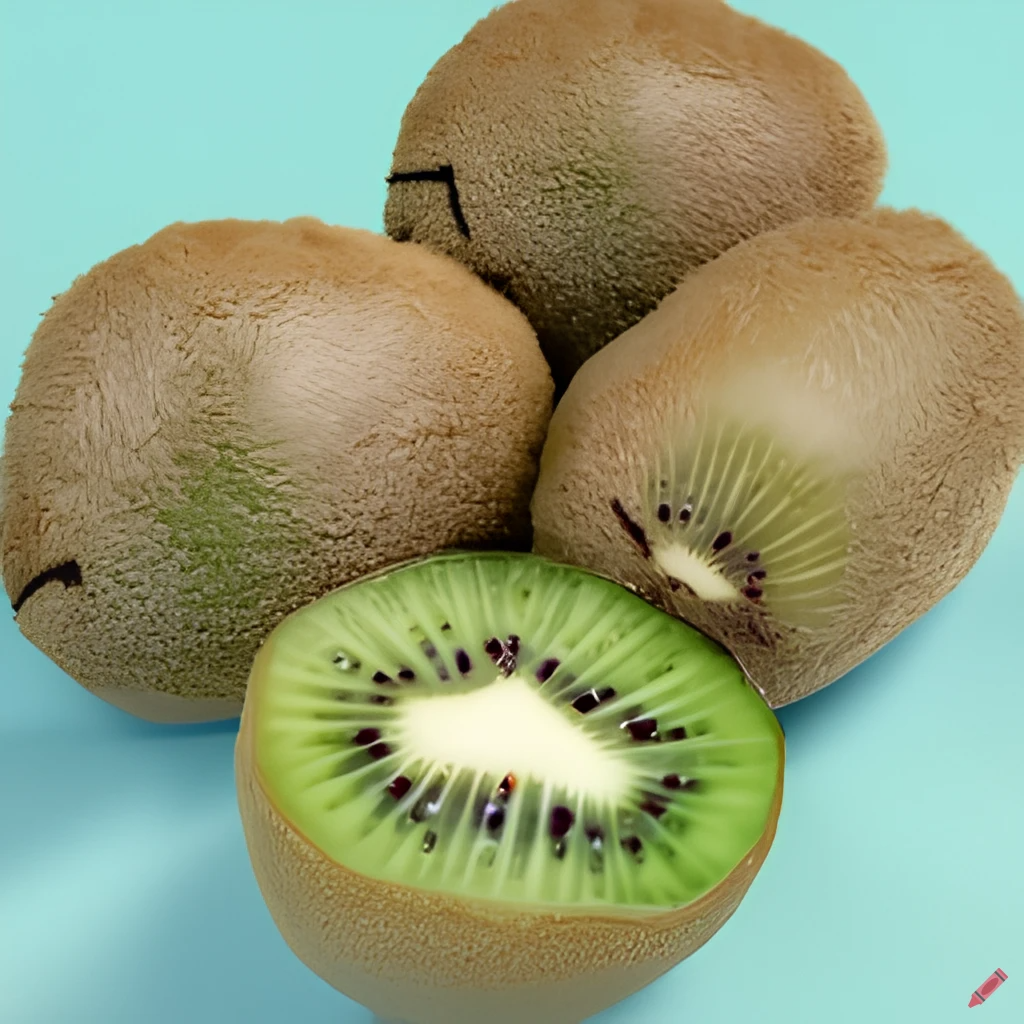Kiwi: (196, 519, 804, 996), (494, 203, 1024, 700), (0, 192, 524, 670), (310, 0, 902, 312)
